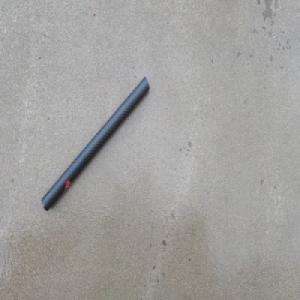LuggagePart: (41, 75, 150, 214)
